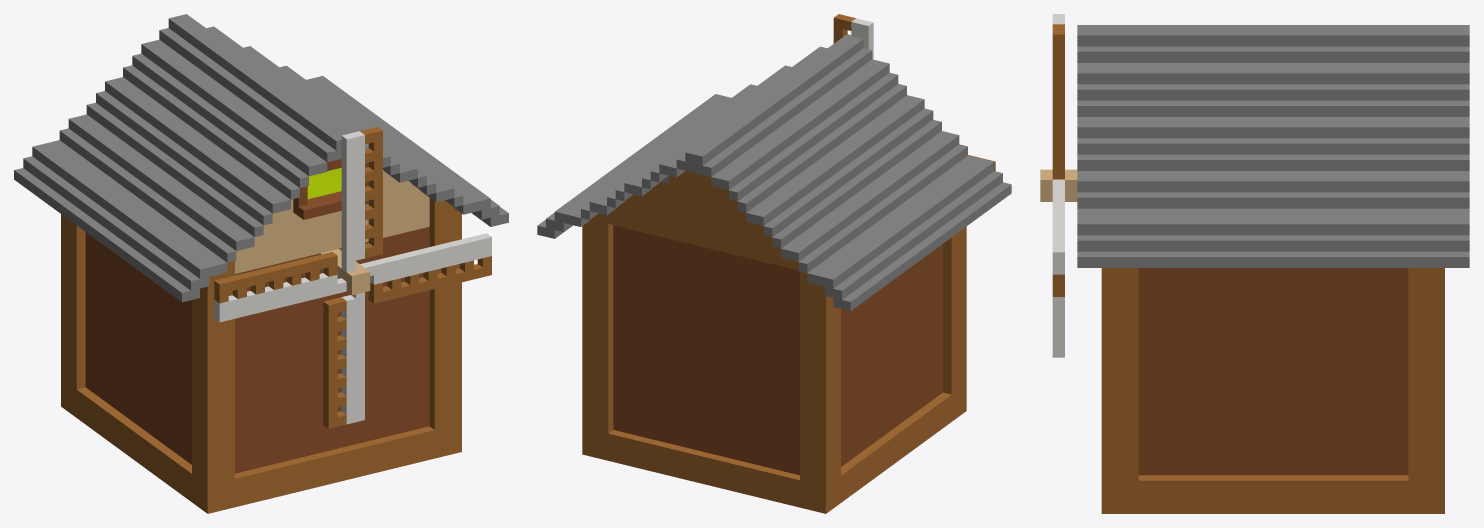
File: mill.fbx
The picture shows the model from 3 angles, left to right: view 1: azimuth 30°, elevation 25°; view 2: azimuth 150°, elevation 25°; view 3: azimuth 270°, elevation 25°; orthographic projection. The views are drawn at different scales.
Parts seen in each view (by area): view 1: ObjObject.010; view 2: ObjObject.010; view 3: ObjObject.010.
Part boxes in pixels (left/top/right/bottom): ObjObject.010: left=14, top=14, right=508, bottom=513; ObjObject.010: left=537, top=14, right=1011, bottom=513; ObjObject.010: left=1040, top=14, right=1469, bottom=513.
Size of the model in its own units: 360 by 380 by 350.
Materials: 1 (1 with a texture image).
